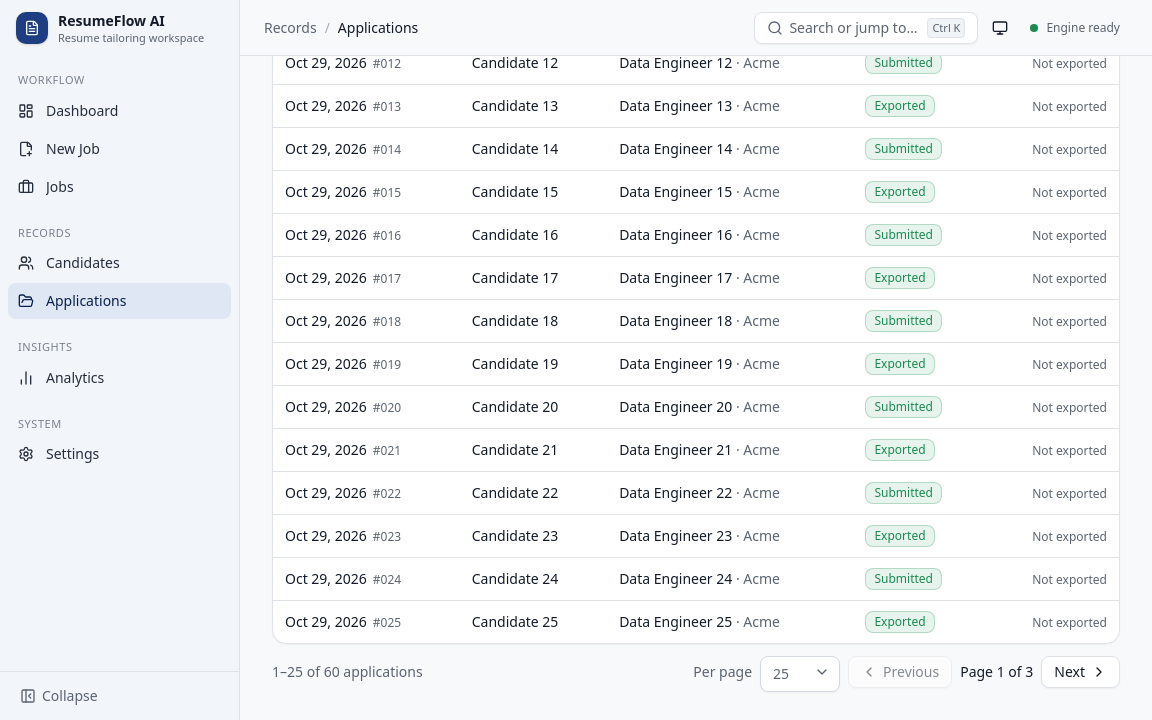
Test: application list pages › shows 25 applications per page and moves between pages
(page scrolled)
Check: the text "1–25 of 60 applications" is shown, box [272, 662, 423, 682]
Check: the text "Data Engineer 25" is shown, box [619, 612, 732, 630]
Click the button with aria-label "Next page".
click(1081, 672)  # box [1041, 656, 1120, 688]
(page scrolled)
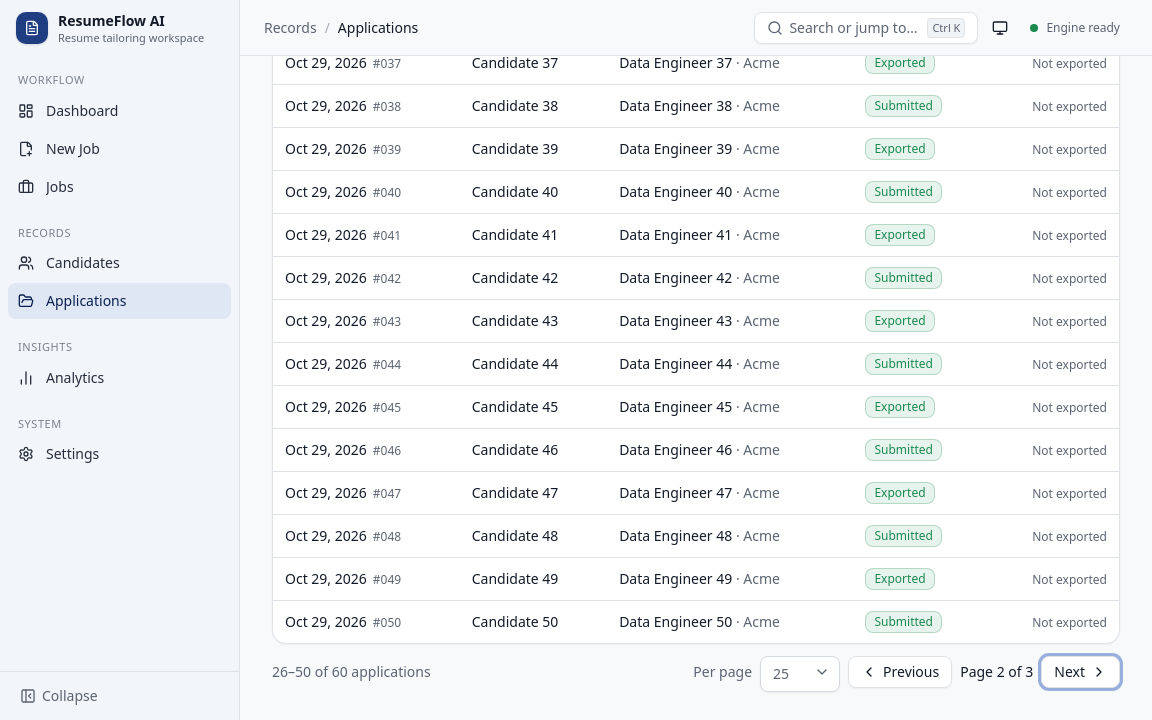
Check: the text "26–50 of 60 applications" is shown, box [272, 662, 431, 682]
Click the button with aria-label "Next page".
click(1081, 672)  # box [1041, 656, 1120, 688]
(page scrolled)
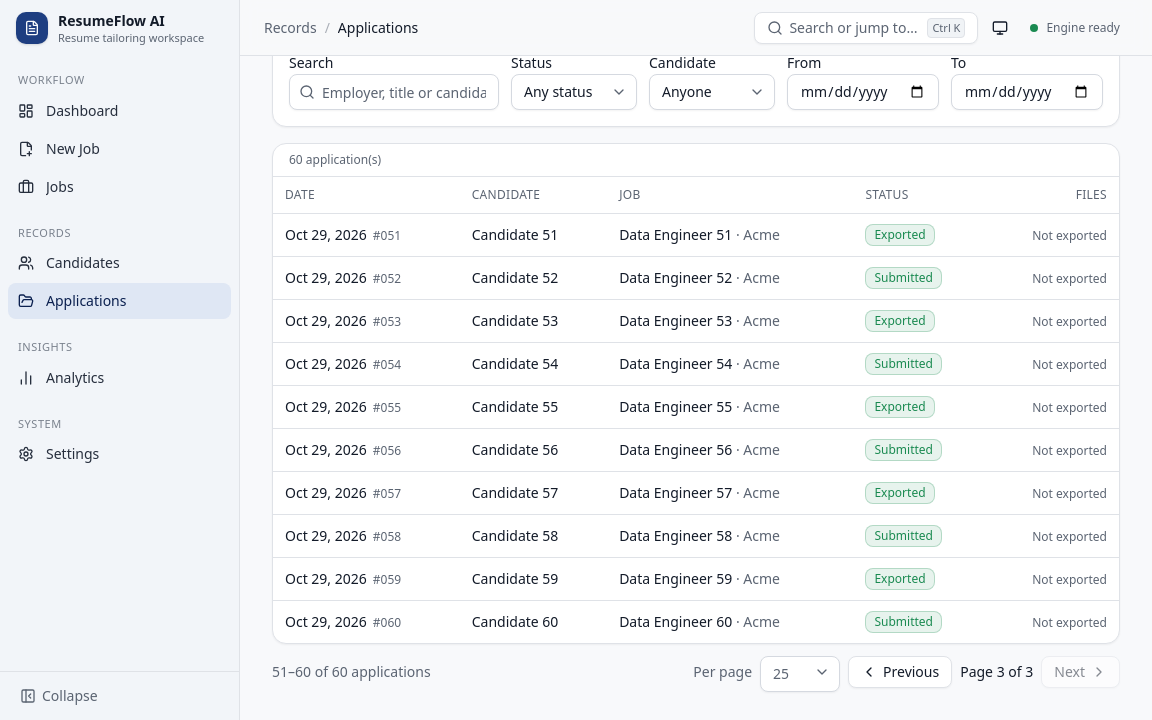
Check: the text "51–60 of 60 applications" is shown, box [272, 662, 431, 682]
Check: the button with aria-label "Next page" is disabled, box [1041, 656, 1120, 688]
